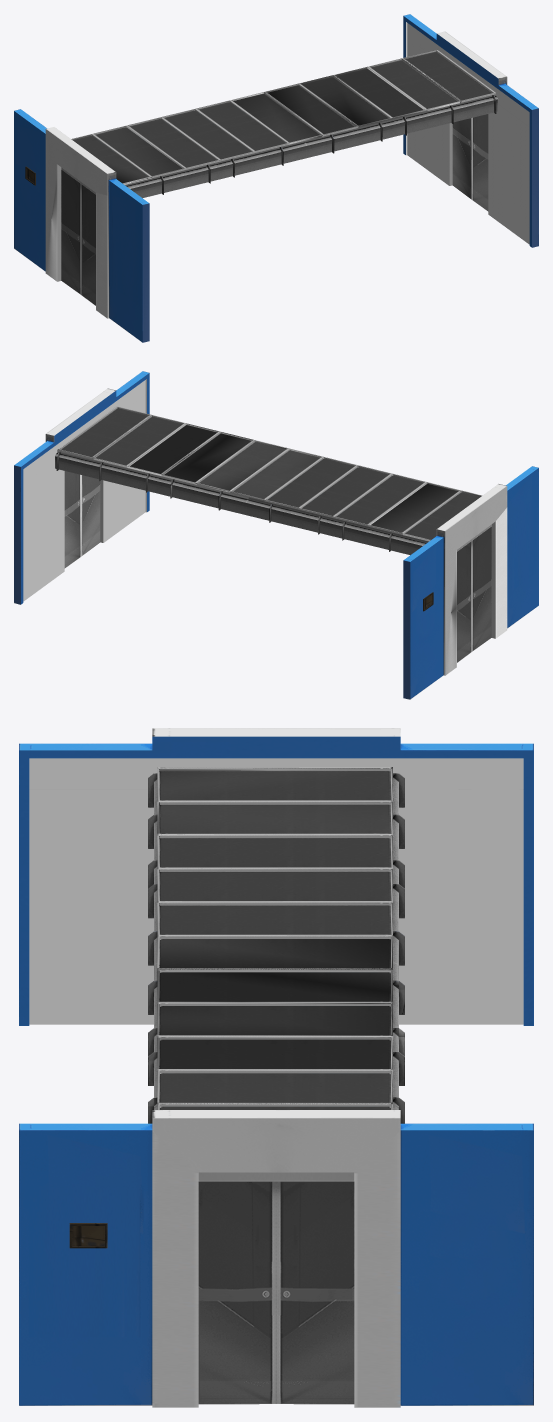
File: Set7G1800_1225.obj
3 views of the same model, one above another, from view 1: azimuth 30°, elevation 25°; view 2: azimuth 150°, elevation 25°; view 3: azimuth 270°, elevation 25° (orthographic). The views are drawn at different scales.
Visible parts, largest first — view 1: set7G1800; view 2: set7G1800; view 3: set7G1800.
Boxes of the visible parts, x1=… form: set7G1800: x1=14, y1=14, x2=538, y2=342; set7G1800: x1=14, y1=371, x2=538, y2=699; set7G1800: x1=19, y1=728, x2=533, y2=1407.
Size of the model in its own units: 7.52 by 2.6 by 4.2.
